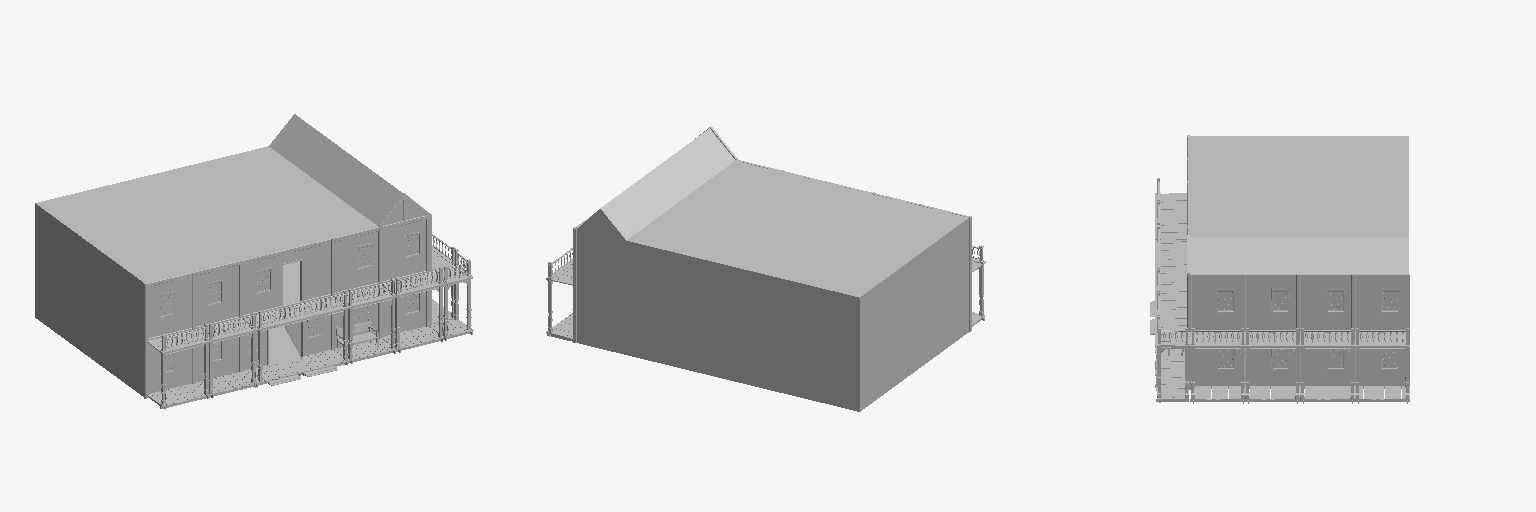
The model's file is Saloon.obj.
3 views of the same model, side by side, from view 1: azimuth 30°, elevation 25°; view 2: azimuth 150°, elevation 25°; view 3: azimuth 270°, elevation 25° (orthographic).
Parts seen in each view (by area): view 1: Cube.088_Cube.063, Cube.028_Cube.022, Cube.086_Cube.087, Cube.014_Cube.006, Cube.065, Cube.049_Cube.048, Cube.020_Cube.014, Cube.085_Cube.086, Cube.063_Cube.085, Cube.047_Cube.046, Cube.072, Cube.023_Cube.017 (+7 smaller); view 2: Cube.088_Cube.063; view 3: Cube.088_Cube.063, Cube.130_Cube.129, Cube.145_Cube.144, Cube.160_Cube.159, Cube.101_Cube.100, Cube.128_Cube.127, Cube.143_Cube.142, Cube.158_Cube.157, Cube.099_Cube.098, Cube.190_Cube.189, Cube.180_Cube.179, Cube.170_Cube.169 (+8 smaller).
Boxes of the visible parts, x1,y1,x2,y2 form: Cube.088_Cube.063: [35, 114, 402, 396]; Cube.028_Cube.022: [243, 243, 330, 314]; Cube.086_Cube.087: [149, 277, 191, 337]; Cube.014_Cube.006: [335, 231, 377, 292]; Cube.065: [196, 265, 238, 326]; Cube.049_Cube.048: [383, 220, 425, 280]; Cube.020_Cube.014: [243, 315, 330, 370]; Cube.085_Cube.086: [149, 344, 191, 393]; Cube.063_Cube.085: [196, 337, 238, 381]; Cube.047_Cube.046: [383, 292, 425, 336]; Cube.072: [147, 384, 209, 409]; Cube.023_Cube.017: [286, 350, 348, 375]; Cube.088_Cube.063: [577, 128, 968, 411]; Cube.088_Cube.063: [1190, 136, 1408, 273]; Cube.130_Cube.129: [1246, 279, 1295, 329]; Cube.145_Cube.144: [1301, 279, 1350, 329]; Cube.160_Cube.159: [1356, 279, 1405, 329]; Cube.101_Cube.100: [1192, 279, 1241, 329]; Cube.128_Cube.127: [1249, 334, 1295, 388]; Cube.143_Cube.142: [1304, 334, 1350, 388]; Cube.158_Cube.157: [1359, 349, 1405, 388]; Cube.099_Cube.098: [1194, 336, 1241, 388]; Cube.190_Cube.189: [1300, 386, 1355, 403]; Cube.180_Cube.179: [1245, 386, 1299, 403]; Cube.170_Cube.169: [1190, 386, 1245, 403].
Size of the model in its own units: 20.87 by 9 by 14.98.